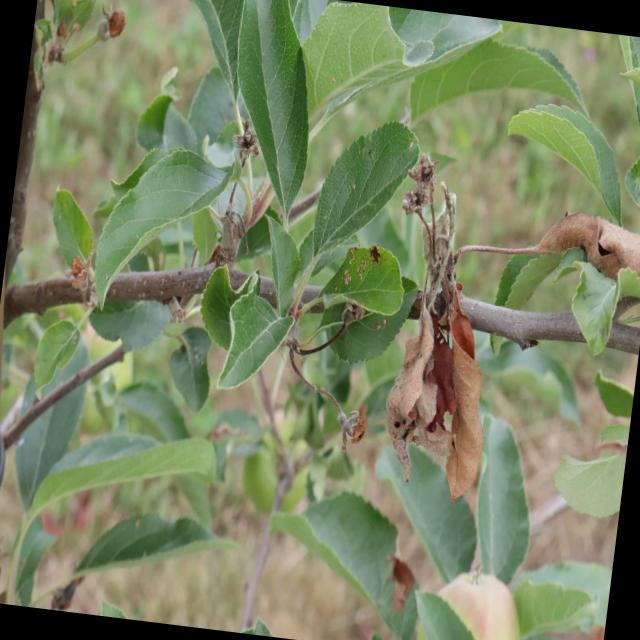-FireBlight-: (372, 163, 520, 502), (539, 209, 640, 290)
